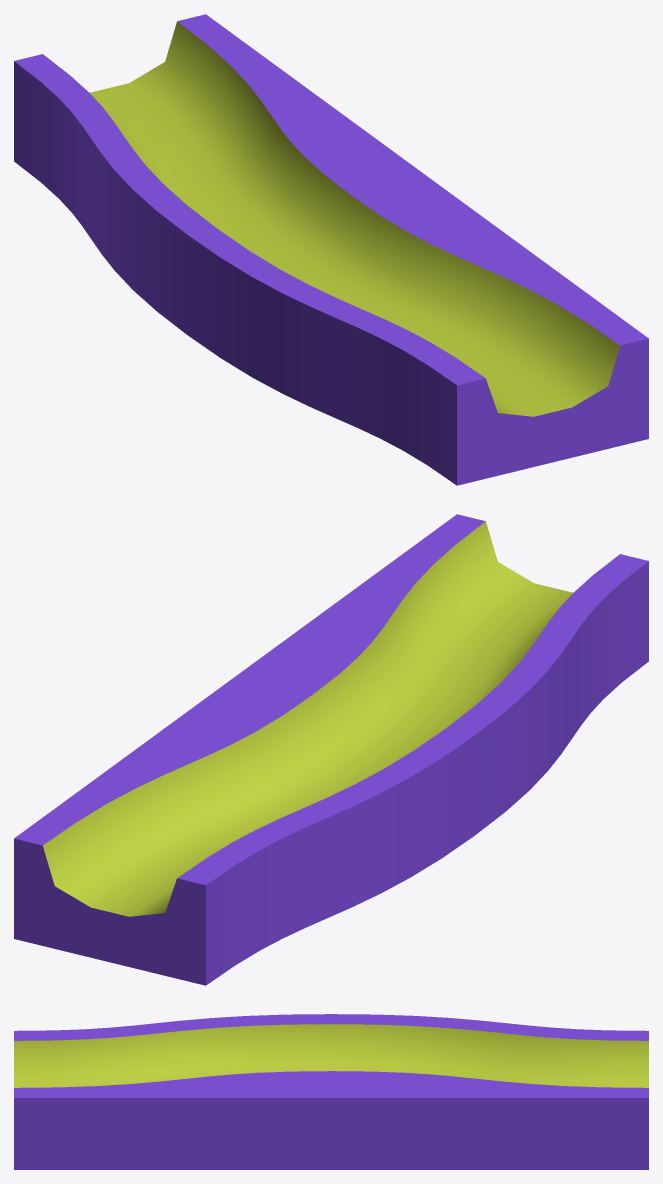
Rendered from wave_solid_A-col.dae.
3 renders of one model, top to bottom at view 1: azimuth 30°, elevation 25°; view 2: azimuth 150°, elevation 25°; view 3: azimuth 270°, elevation 25°, orthographic. The views are drawn at different scales.
Parts seen in each view (by area): view 1: wave_solid_A-col; view 2: wave_solid_A-col; view 3: wave_solid_A-col.
Boxes of the visible parts, <box> form: wave_solid_A-col: <box>14,14,648,485</box>; wave_solid_A-col: <box>14,514,648,985</box>; wave_solid_A-col: <box>14,1014,648,1169</box>.
Bounding box in the file's own units: 1.25 × 4 × 0.5.
